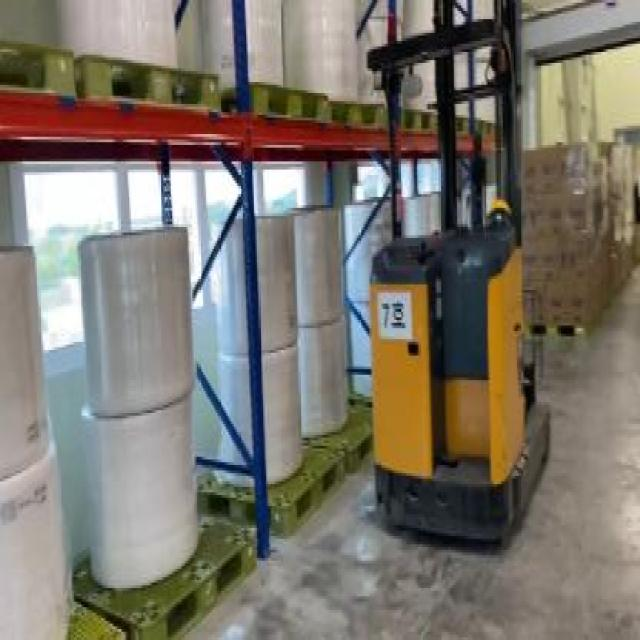box: (517, 134, 632, 342)
robot: (363, 3, 555, 539)
white_roll: (71, 227, 223, 626), (215, 211, 357, 514), (0, 235, 74, 629), (192, 0, 366, 131), (2, 3, 190, 109), (346, 194, 412, 416)
